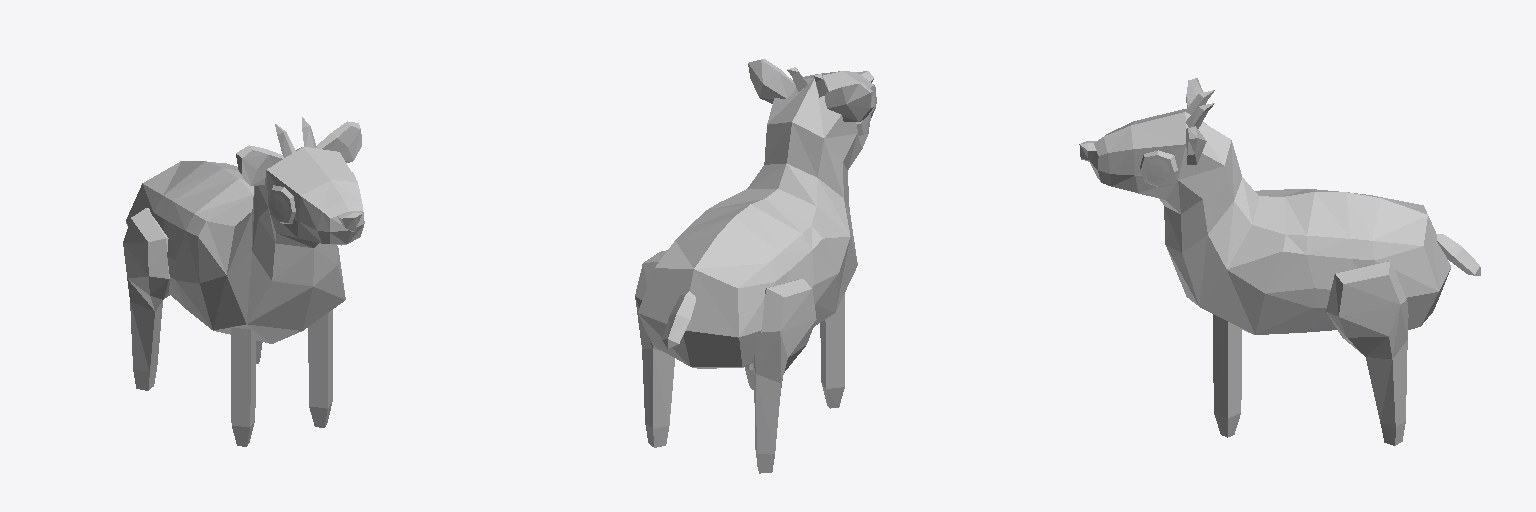
Rendered from Pudu_LOD3.obj.
The picture shows the model from 3 angles: view 1: azimuth 30°, elevation 25°; view 2: azimuth 150°, elevation 25°; view 3: azimuth 270°, elevation 25°; orthographic projection.
Visible parts, largest first — view 1: Mesh_Pudu_LOD3; view 2: Mesh_Pudu_LOD3; view 3: Mesh_Pudu_LOD3.
Boxes of the visible parts, x1,y1,x2,y2 form: Mesh_Pudu_LOD3: [123, 117, 364, 446]; Mesh_Pudu_LOD3: [635, 59, 876, 473]; Mesh_Pudu_LOD3: [1079, 78, 1480, 445].
Bounding box in the file's own units: 0.537 × 1.05 × 1.2.